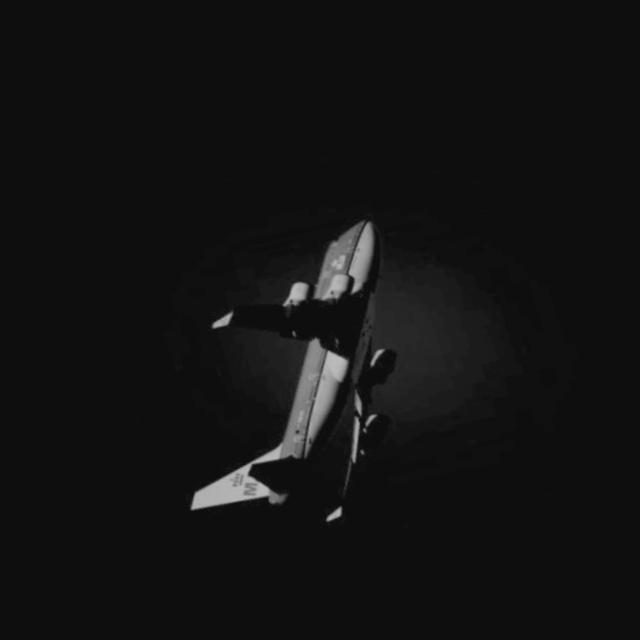aeroplane: (87, 165, 464, 587)
